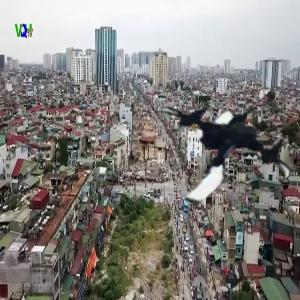drone: (152, 77, 295, 220)
